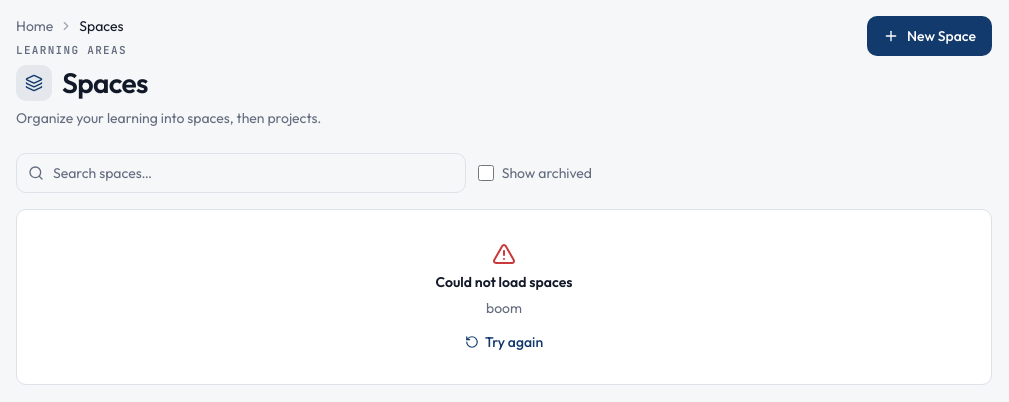
Scenario: spaces store + SpacesPage › shows an error state with retry on API failure
The image size is (1009, 402).
Expected: the text "Could not load spaces" is shown, [436,272,572,292]
Click the button "Try again".
click(504, 342)  # box [465,332,543,352]
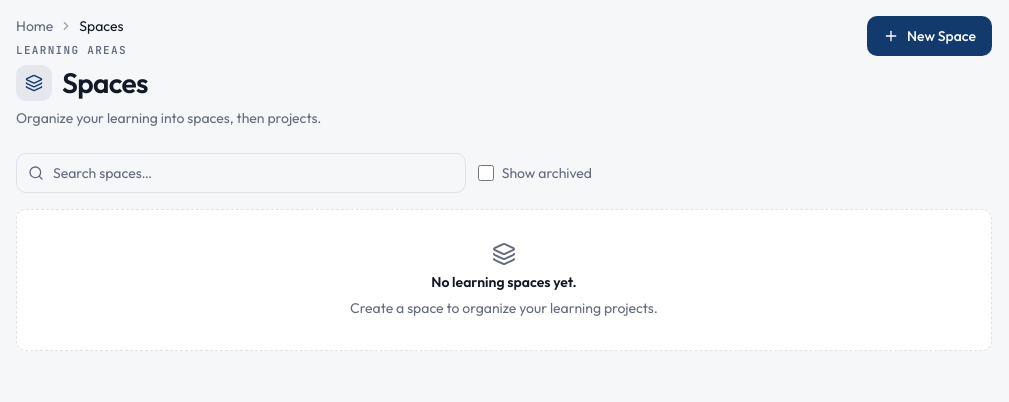
Result: the text "No learning spaces yet." is shown at [431,272,577,292]
